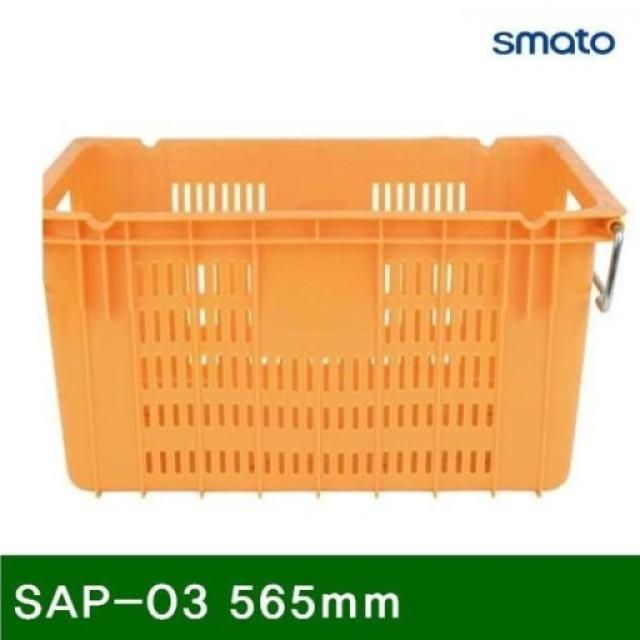basket: (45, 137, 627, 493)
